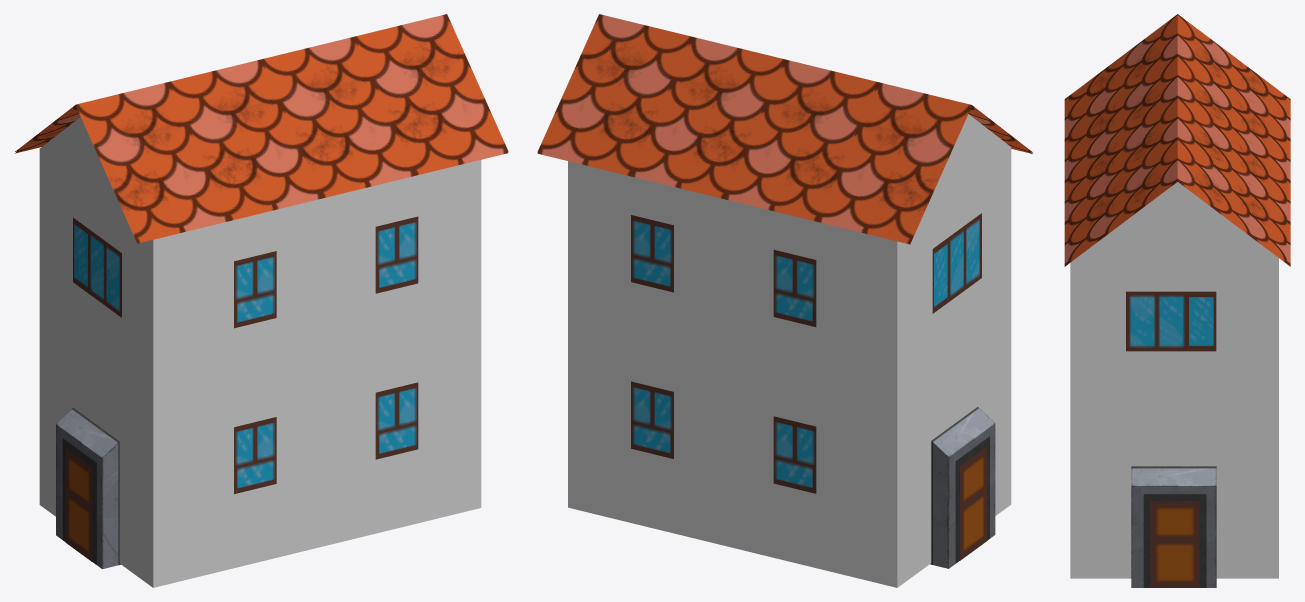
Rendered from home3.fbx.
3 views of the same model, side by side, from view 1: azimuth 30°, elevation 25°; view 2: azimuth 150°, elevation 25°; view 3: azimuth 270°, elevation 25° (orthographic). The views are drawn at different scales.
Visible parts, largest first — view 1: Cube.004; view 2: Cube.004; view 3: Cube.004.
Boxes of the visible parts, <box> form: Cube.004: <box>15,14,508,587</box>; Cube.004: <box>537,14,1032,587</box>; Cube.004: <box>1064,14,1290,587</box>.
Bounding box in the file's own units: 235 × 270 × 136.
